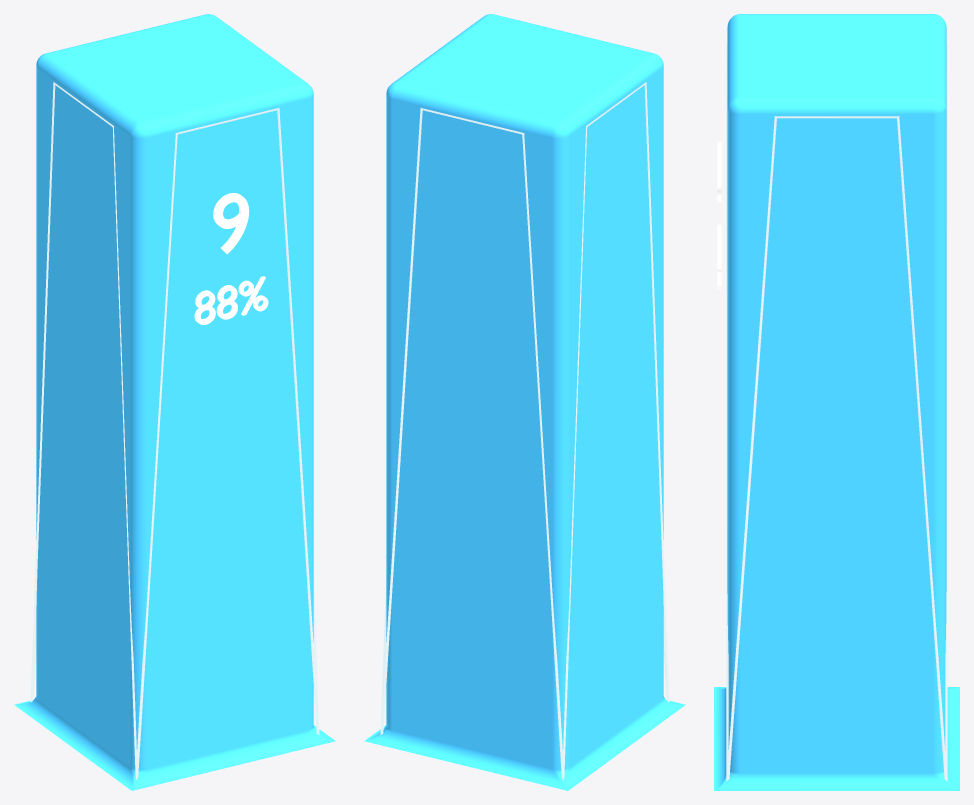
The model's file is column-blue.glb.
3 views of the same model, side by side, from view 1: azimuth 30°, elevation 25°; view 2: azimuth 150°, elevation 25°; view 3: azimuth 270°, elevation 25° (orthographic). The views are drawn at different scales.
Parts seen in each view (by area): view 1: B01 translucent blue moisture column, B01 white edge shell, B01 column moisture percent label, B01 column block number label; view 2: B01 translucent blue moisture column, B01 white edge shell; view 3: B01 translucent blue moisture column, B01 white edge shell.
Part boxes in pixels (<box>): B01 translucent blue moisture column: <box>14,14,335,790</box>; B01 white edge shell: <box>30,82,319,779</box>; B01 column moisture percent label: <box>194,276,268,324</box>; B01 column block number label: <box>213,193,249,254</box>; B01 translucent blue moisture column: <box>364,14,685,790</box>; B01 white edge shell: <box>380,82,669,779</box>; B01 translucent blue moisture column: <box>714,14,959,790</box>; B01 white edge shell: <box>726,43,947,781</box>.
Bounding box in the file's own units: 0.92 × 2.82 × 0.92.
